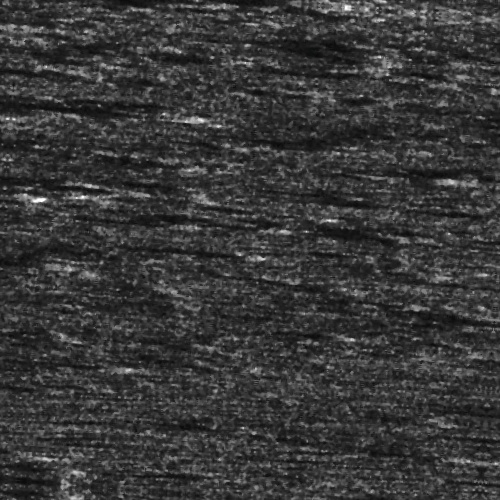object: (0, 207, 86, 224), (122, 115, 205, 128), (231, 0, 346, 4), (170, 4, 233, 11), (100, 375, 173, 380), (224, 251, 265, 256), (474, 191, 500, 196), (55, 477, 66, 486)
shadow: (0, 115, 164, 128), (0, 4, 201, 11), (0, 0, 288, 4), (101, 251, 244, 256), (0, 207, 34, 224), (0, 477, 61, 486), (39, 375, 136, 380), (421, 191, 500, 196), (70, 228, 168, 231)
